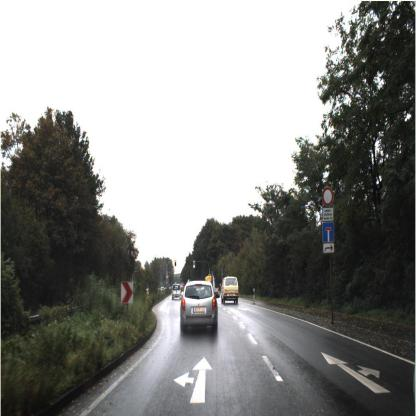prohibitory: (319, 182, 335, 209)
